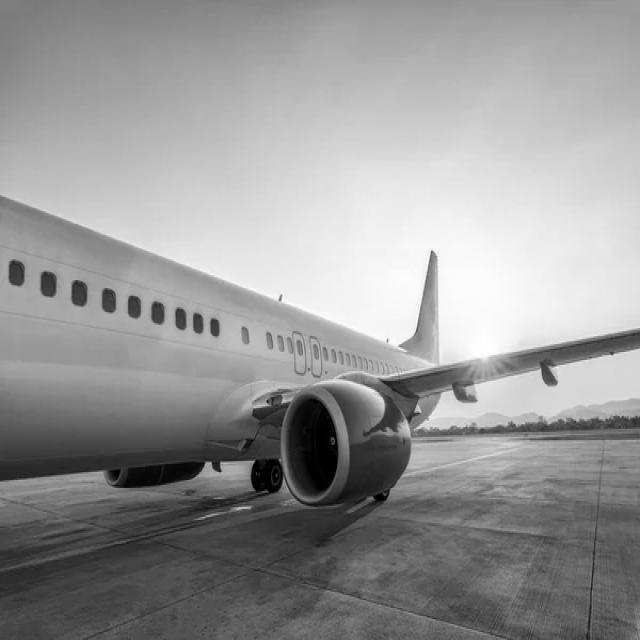Aircraft: (0, 167, 584, 518)
